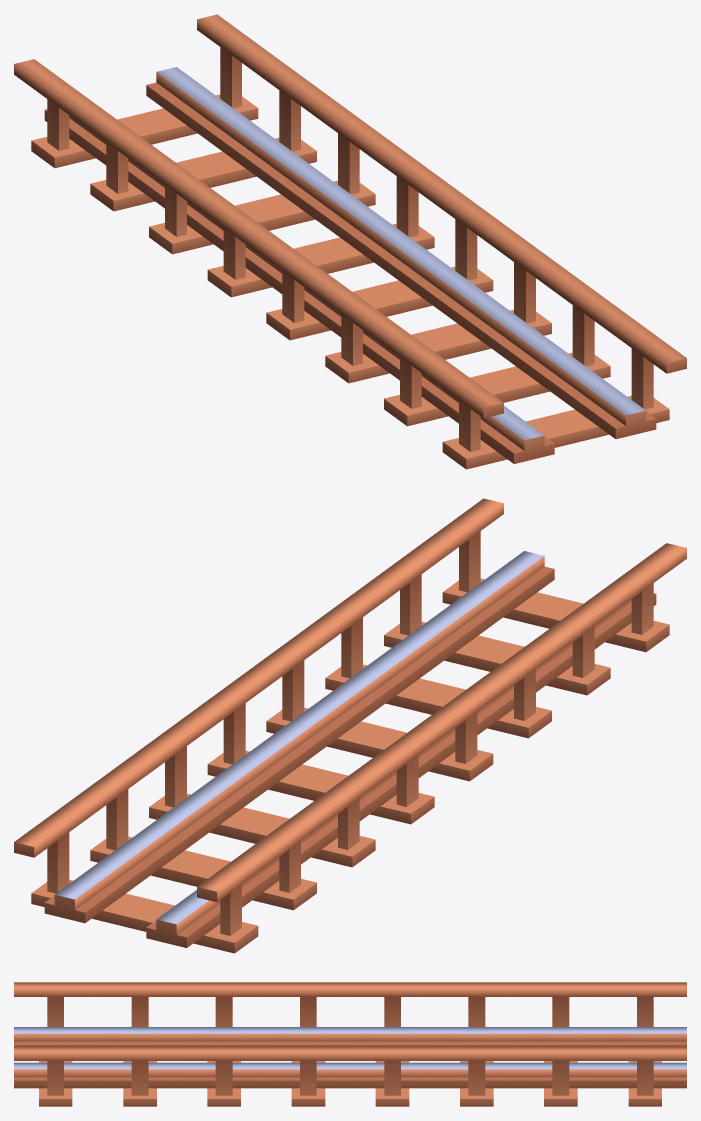
File: coaster-wood-straight.glb
3 renders of one model, top to bottom at view 1: azimuth 30°, elevation 25°; view 2: azimuth 150°, elevation 25°; view 3: azimuth 270°, elevation 25°, orthographic. The views are drawn at different scales.
Visible parts, largest first — view 1: coaster-wood-straight; view 2: coaster-wood-straight; view 3: coaster-wood-straight.
Boxes of the visible parts, x1=… form: coaster-wood-straight: x1=14, y1=14, x2=686, y2=469; coaster-wood-straight: x1=14, y1=498, x2=686, y2=953; coaster-wood-straight: x1=14, y1=982, x2=686, y2=1106.
Bounding box in the file's own units: 1 × 0.35 × 4.
Materials: 1 (1 with a texture image).
